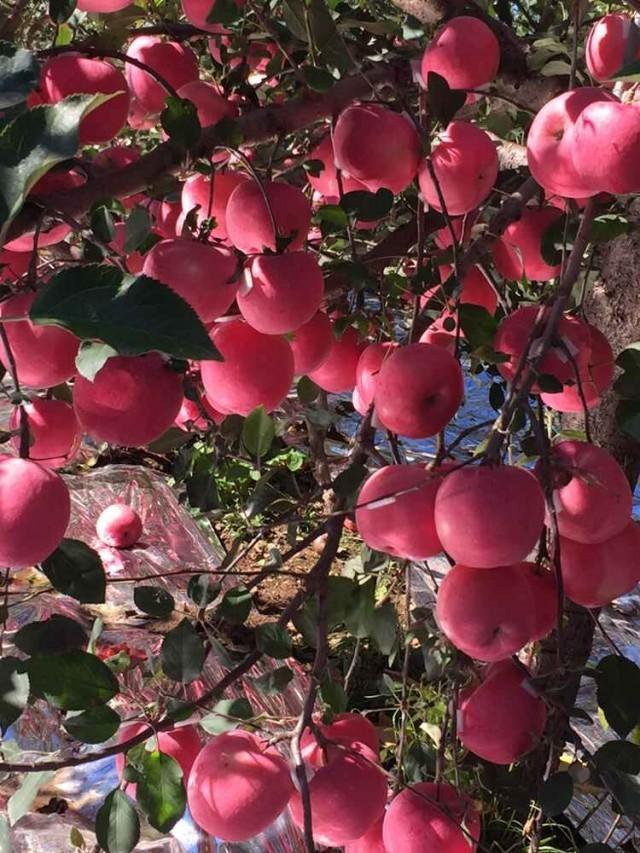apple: (185, 730, 294, 843), (435, 468, 549, 566), (435, 565, 543, 662), (535, 437, 632, 544), (360, 339, 462, 439), (72, 357, 182, 448), (288, 740, 385, 843), (455, 668, 549, 768), (202, 322, 295, 418), (29, 54, 128, 144), (352, 460, 441, 560), (141, 236, 240, 322), (527, 85, 598, 199), (416, 121, 498, 217), (1, 452, 69, 567), (333, 101, 416, 194), (1, 292, 80, 387), (553, 522, 640, 607), (418, 16, 500, 104), (384, 783, 481, 853), (236, 254, 323, 332), (572, 98, 640, 194), (225, 179, 310, 255), (95, 505, 143, 550)
